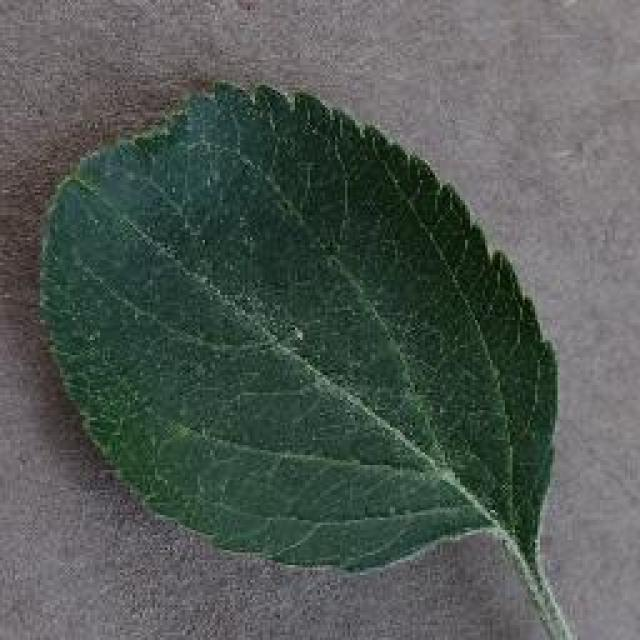apple healthy: (35, 75, 593, 637)
